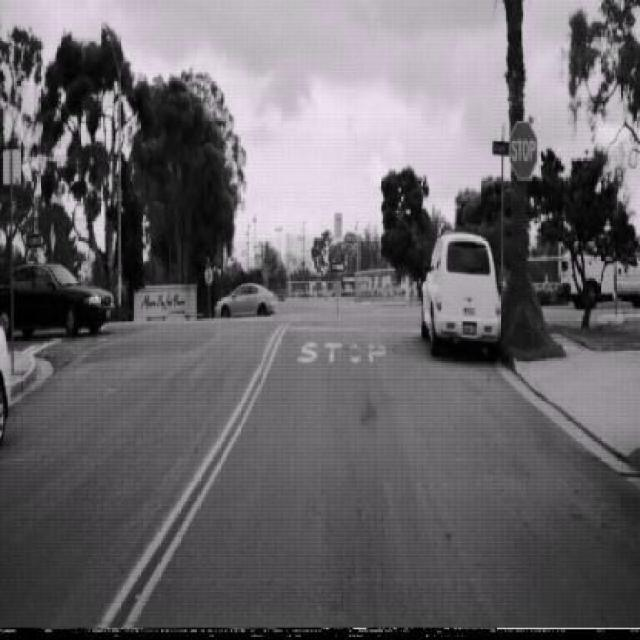stop: (508, 118, 538, 180)
